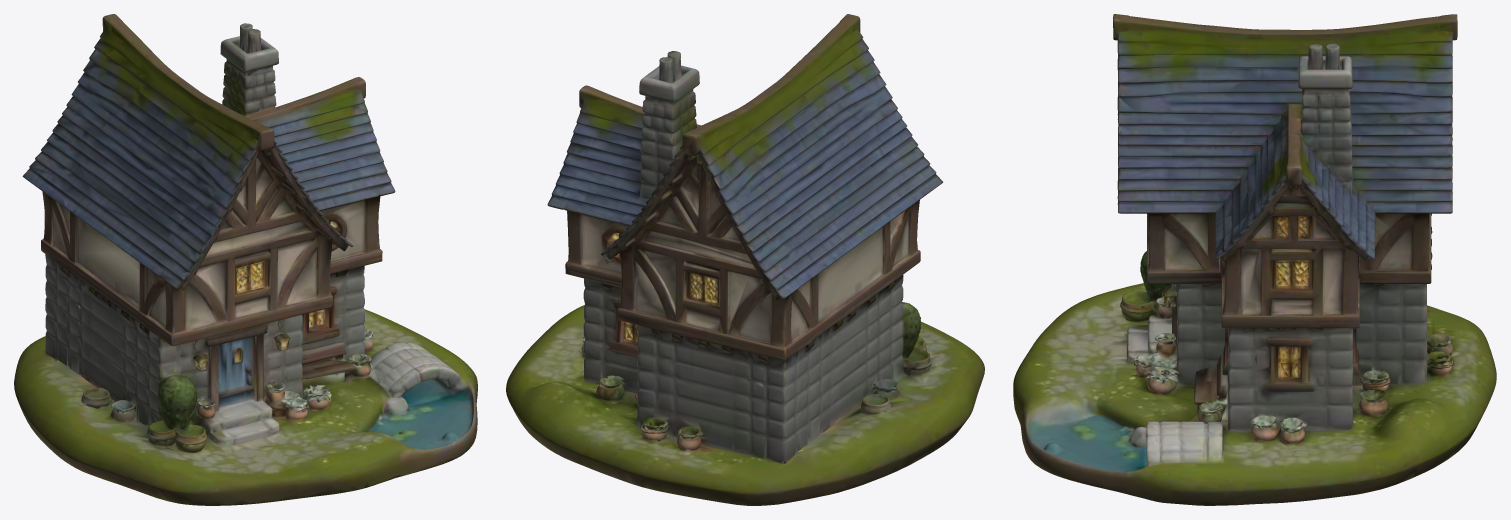
File: tower-alt-DNKt7_75.glb
3 renders of one model, left to right at view 1: azimuth 30°, elevation 25°; view 2: azimuth 150°, elevation 25°; view 3: azimuth 270°, elevation 25°, orthographic. The views are drawn at different scales.
Parts seen in each view (by area): view 1: node_0; view 2: node_0; view 3: node_0.
Boxes of the visible parts, x1,y1,x2,y2 form: node_0: (14, 14, 477, 505); node_0: (506, 14, 984, 505); node_0: (1013, 14, 1496, 505).
Size of the model in its own units: 0.8805 by 0.7434 by 0.8646.
Materials: 1 (1 with a texture image).
